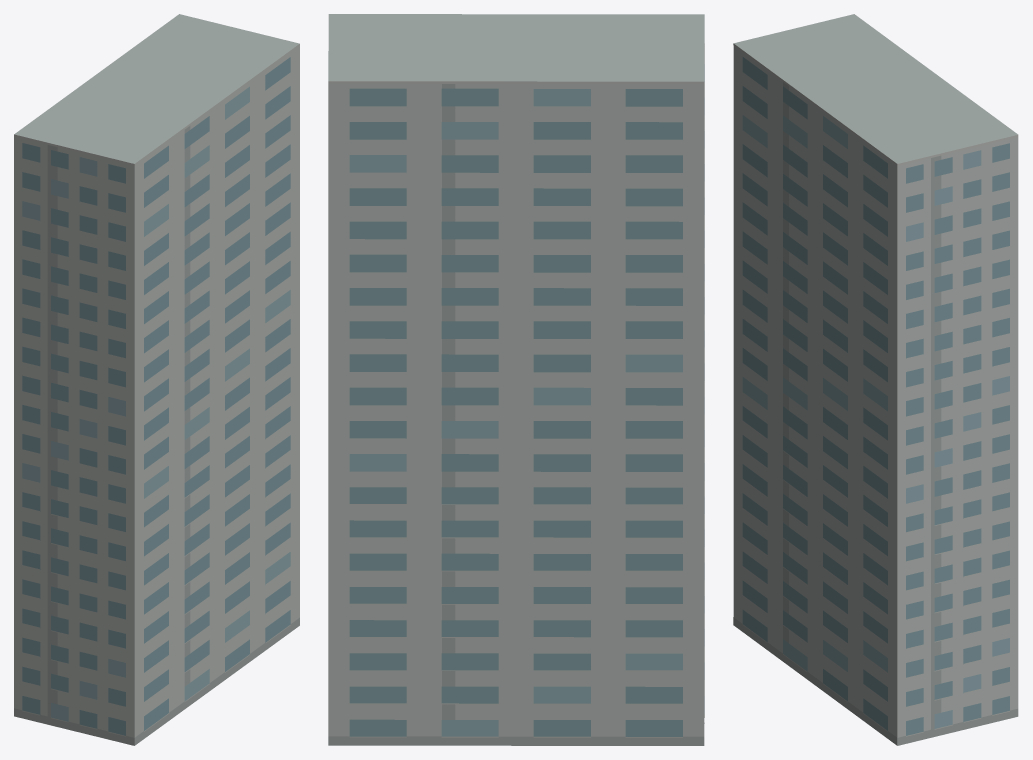
Rendered from residential-7ec9f7c6-cd4d-4278-a52f-4e7f46764184.glb.
3 renders of one model, left to right at view 1: azimuth 30°, elevation 25°; view 2: azimuth 150°, elevation 25°; view 3: azimuth 270°, elevation 25°, orthographic. The views are drawn at different scales.
Visible parts, largest first — view 1: residential-7ec9f7c6-cd4d-4278-a52f-4e7f46764184.tmp; view 2: residential-7ec9f7c6-cd4d-4278-a52f-4e7f46764184.tmp; view 3: residential-7ec9f7c6-cd4d-4278-a52f-4e7f46764184.tmp.
Part boxes in pixels (bbox=[...]): residential-7ec9f7c6-cd4d-4278-a52f-4e7f46764184.tmp: bbox=[14, 14, 299, 745]; residential-7ec9f7c6-cd4d-4278-a52f-4e7f46764184.tmp: bbox=[328, 14, 704, 745]; residential-7ec9f7c6-cd4d-4278-a52f-4e7f46764184.tmp: bbox=[733, 14, 1018, 745].
Size of the model in its own units: 36.5 by 66 by 29.3.
